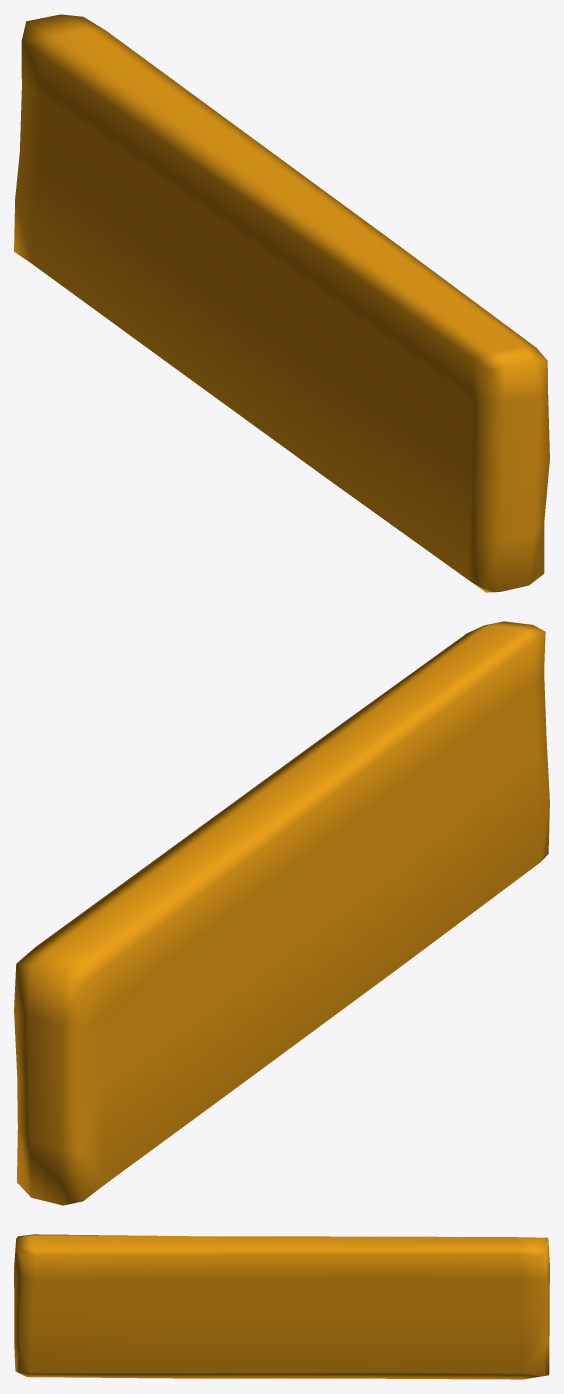
File: Sign.fbx
The picture shows the model from 3 angles, top to bottom: view 1: azimuth 30°, elevation 25°; view 2: azimuth 150°, elevation 25°; view 3: azimuth 270°, elevation 25°; orthographic projection. The views are drawn at different scales.
Visible parts, largest first — view 1: Sign; view 2: Sign; view 3: Sign.
Part boxes in pixels (<box>): Sign: <box>14,14,549,592</box>; Sign: <box>14,621,549,1205</box>; Sign: <box>14,1234,549,1379</box>.
Bounding box in the file's own units: 28.37 × 91.3 × 326.
